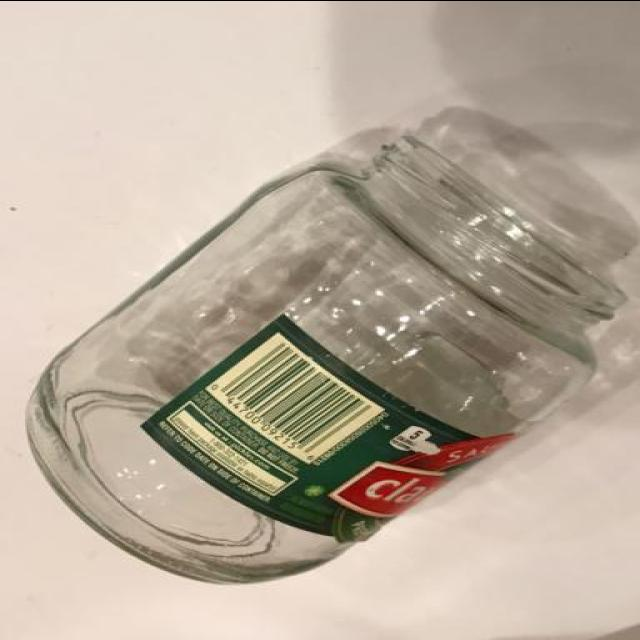glass: (21, 116, 614, 594)
